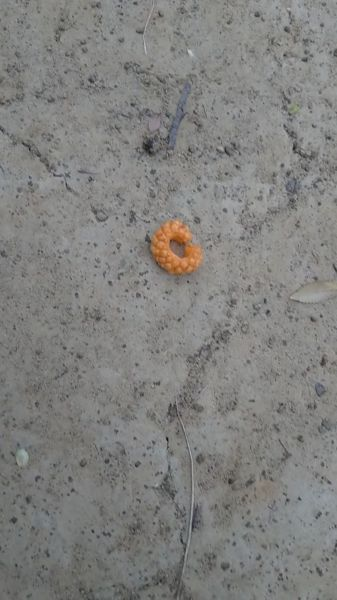eggs: (152, 212, 203, 275)
